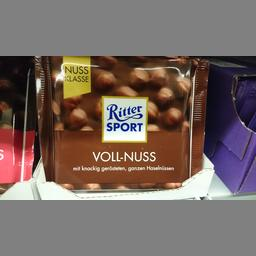chocolate: (33, 54, 210, 188)
